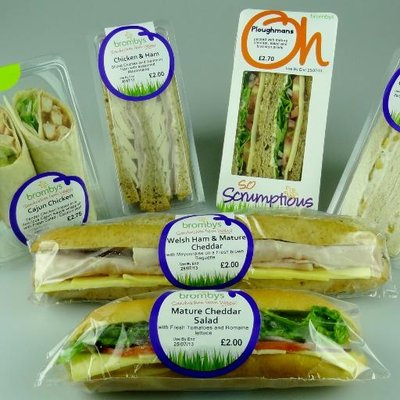sandwich: (27, 282, 395, 400), (26, 203, 397, 307), (78, 23, 219, 215), (210, 1, 326, 221)
